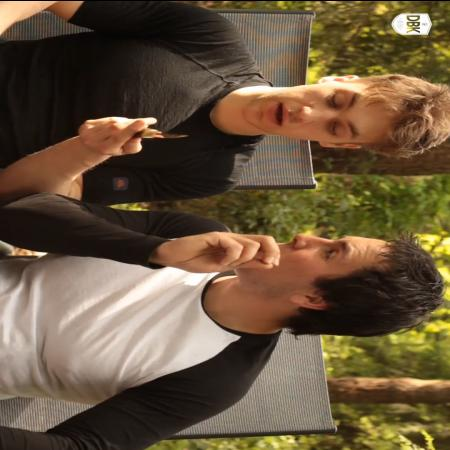long weapon: (95, 112, 197, 147)
